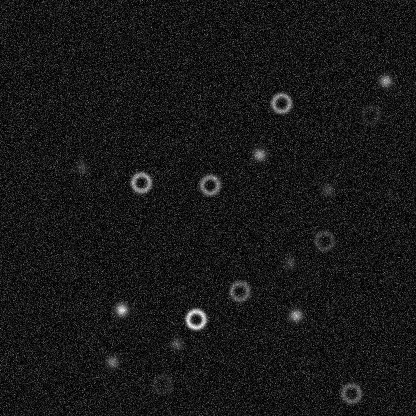Ring: (150, 372, 174, 396), (339, 381, 363, 405), (197, 172, 221, 196), (269, 91, 293, 115), (312, 228, 336, 252), (183, 307, 207, 331), (129, 170, 153, 194), (227, 279, 251, 303), (358, 102, 382, 126)
Spot: (377, 72, 393, 88), (281, 254, 297, 270), (104, 353, 120, 369), (251, 146, 267, 162), (287, 307, 303, 323), (319, 181, 335, 197), (168, 336, 184, 352), (113, 301, 129, 317), (73, 159, 89, 175)
